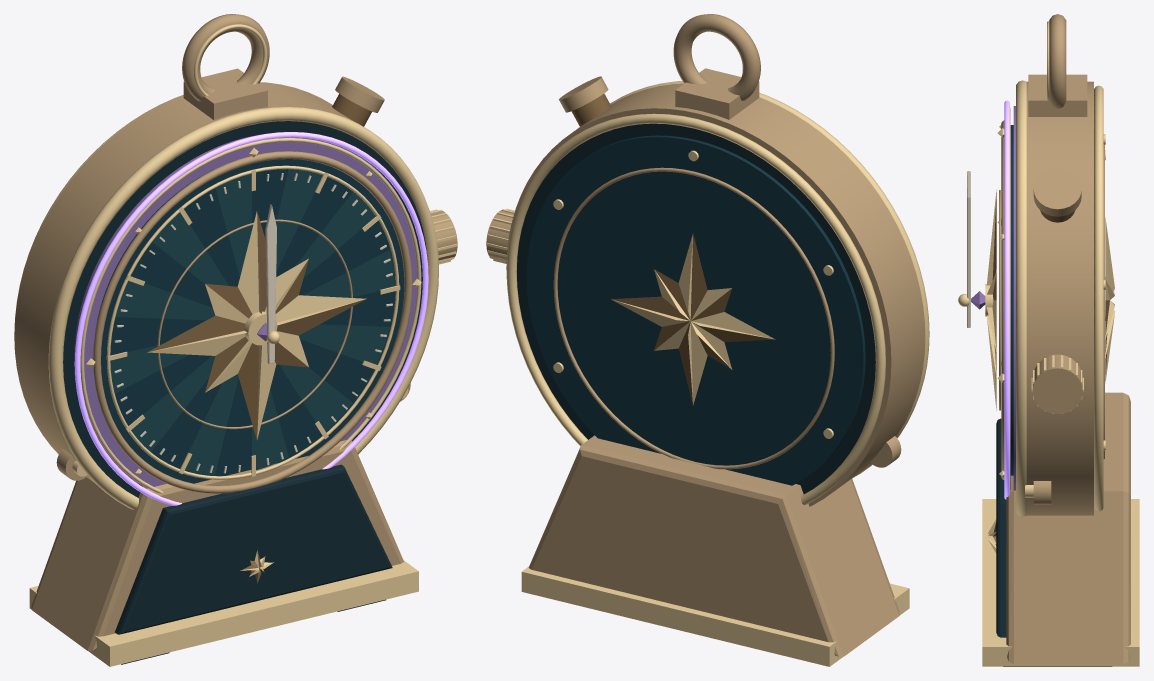
Rendered from focus-timer-v1.glb.
3 views of the same model, side by side, from view 1: azimuth 30°, elevation 25°; view 2: azimuth 150°, elevation 25°; view 3: azimuth 270°, elevation 25° (orthographic).
Parts seen in each view (by area): view 1: Brushed_champagne_gold, Polished_gold_edges, Midnight_enamel, Deep_teal_dial, Teal_dial_facets, Lavender_enamel, FocusHalo, Gold_facet_shadow, ElapsedHand, StartButton, Ivory_markings; view 2: Brushed_champagne_gold, Deep_teal_dial, Polished_gold_edges, Midnight_enamel, Gold_facet_shadow, StartButton; view 3: Brushed_champagne_gold, Polished_gold_edges, FocusHalo, StartButton, Midnight_enamel, Deep_teal_dial, Lavender_enamel, ElapsedHand, Gold_facet_shadow.
Part boxes in pixels (<box>): Brushed_champagne_gold: <box>14,14,457,650</box>; Polished_gold_edges: <box>15,24,457,666</box>; Midnight_enamel: <box>63,121,427,634</box>; Deep_teal_dial: <box>95,159,404,483</box>; Teal_dial_facets: <box>110,169,394,475</box>; Lavender_enamel: <box>74,134,417,488</box>; FocusHalo: <box>74,132,428,505</box>; Gold_facet_shadow: <box>148,211,365,581</box>; ElapsedHand: <box>265,204,279,363</box>; StartButton: <box>332,76,384,126</box>; Ivory_markings: <box>114,173,392,473</box>; Brushed_champagne_gold: <box>486,14,925,656</box>; Deep_teal_dial: <box>526,135,865,485</box>; Polished_gold_edges: <box>487,81,929,666</box>; Midnight_enamel: <box>516,123,875,494</box>; Gold_facet_shadow: <box>611,233,774,404</box>; StartButton: <box>559,76,611,126</box>; Brushed_champagne_gold: <box>999,14,1130,664</box>; Polished_gold_edges: <box>982,21,1139,666</box>; FocusHalo: <box>1004,100,1009,499</box>; StartButton: <box>1033,168,1081,222</box>; Midnight_enamel: <box>996,418,1006,637</box>; Deep_teal_dial: <box>1010,125,1013,475</box>; Lavender_enamel: <box>971,106,1015,490</box>; ElapsedHand: <box>958,171,970,327</box>; Gold_facet_shadow: <box>992,192,1109,536</box>.
Size of the model in its own units: 2.14 by 2.95 by 0.83.
